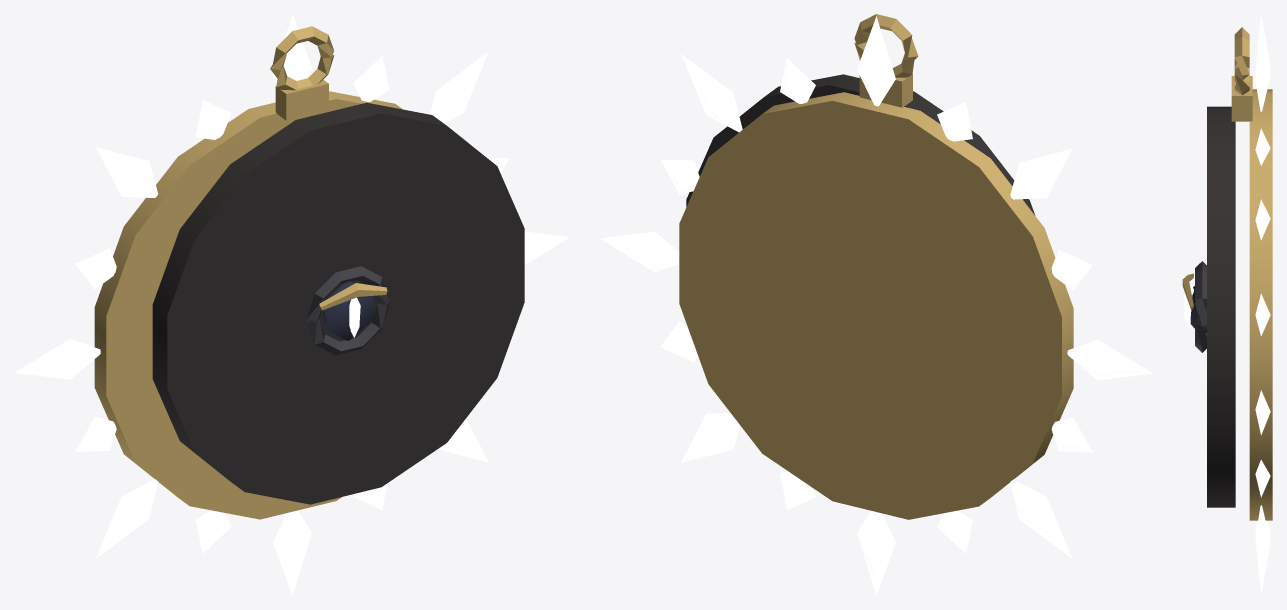
The model's file is astrolabe-eclipse.glb.
3 renders of one model, left to right at view 1: azimuth 30°, elevation 25°; view 2: azimuth 150°, elevation 25°; view 3: azimuth 270°, elevation 25°, orthographic. The views are drawn at different scales.
Parts seen in each view (by area): view 1: astrolabe_eclipse; view 2: astrolabe_eclipse; view 3: astrolabe_eclipse.
Part boxes in pixels (box(x1,y1,x2,y2)): astrolabe_eclipse: box(14, 14, 570, 595); astrolabe_eclipse: box(600, 14, 1152, 595); astrolabe_eclipse: box(1182, 14, 1272, 595).
Size of the model in its own units: 0.845 by 0.845 by 0.1228.
